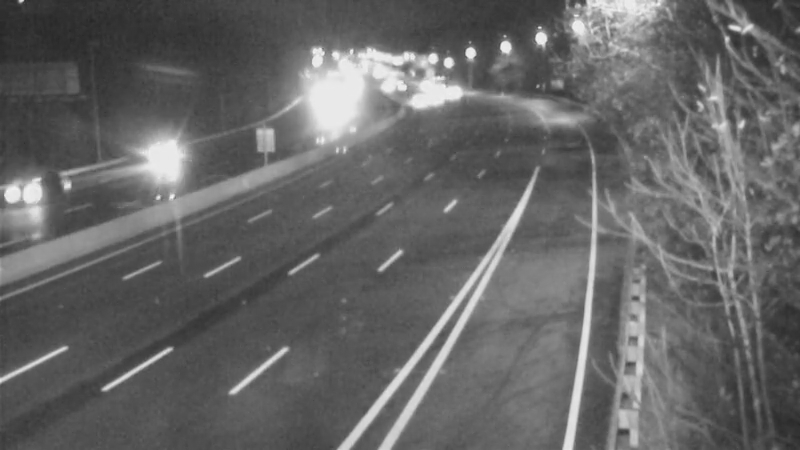vehicle: (117, 117, 197, 197), (1, 155, 75, 235), (427, 66, 477, 116), (394, 76, 444, 126)
